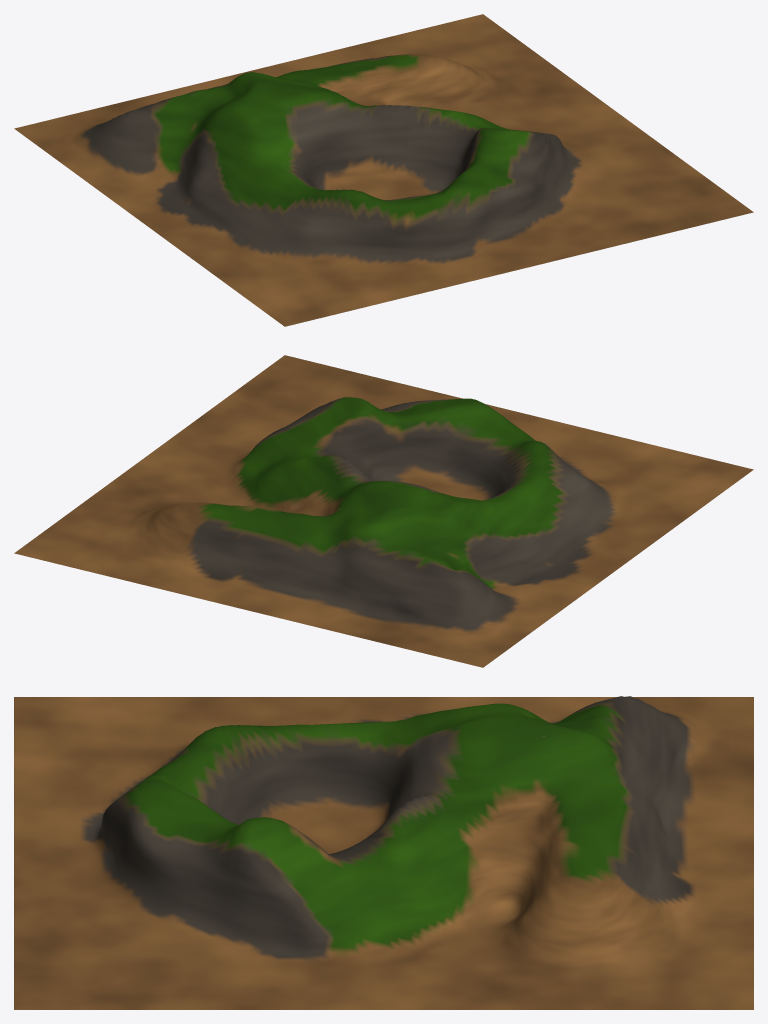
The model's file is Island1.glb.
3 views of the same model, one above another, from view 1: azimuth 30°, elevation 25°; view 2: azimuth 150°, elevation 25°; view 3: azimuth 270°, elevation 25° (orthographic). The views are drawn at different scales.
Visible parts, largest first — view 1: Island1; view 2: Island1; view 3: Island1.
Part boxes in pixels (bbox=[...]): Island1: bbox=[14, 14, 753, 326]; Island1: bbox=[14, 355, 753, 667]; Island1: bbox=[14, 696, 753, 1009].
Size of the model in its own units: 128 by 17.23 by 128.
Materials: 1 (1 with a texture image).
